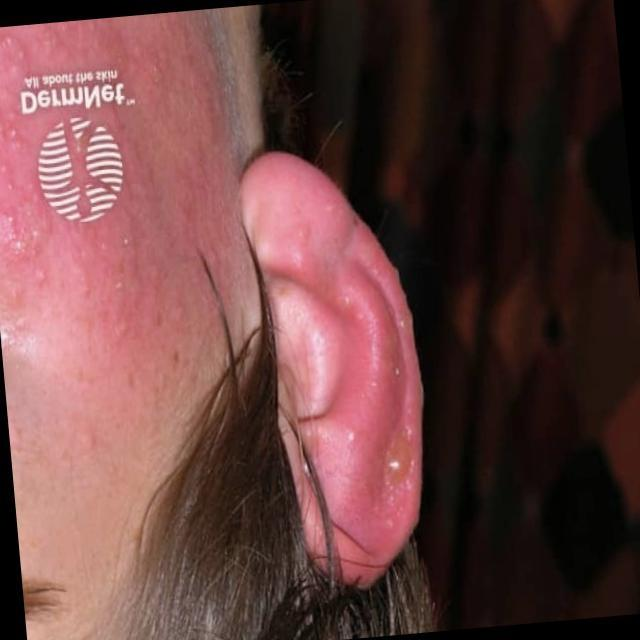Eczema: (290, 206, 424, 496)
